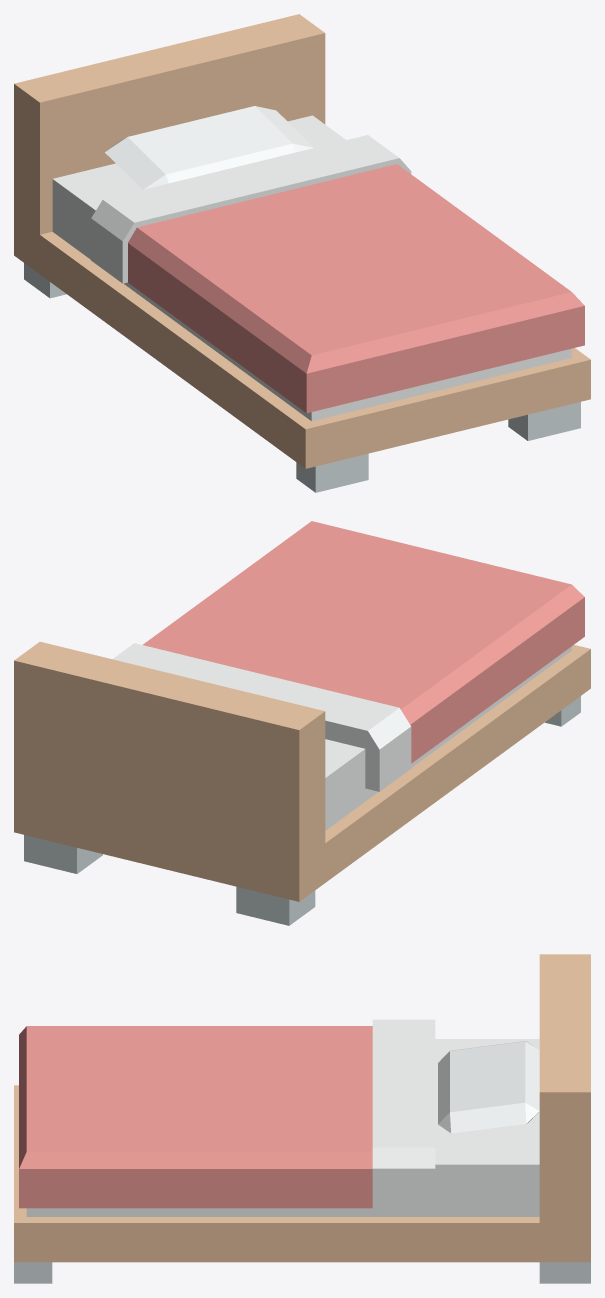
Rendered from bedSingle-alt-col.glb.
3 views of the same model, one above another, from view 1: azimuth 30°, elevation 25°; view 2: azimuth 150°, elevation 25°; view 3: azimuth 270°, elevation 25° (orthographic).
Parts seen in each view (by area): view 1: bedSingle-alt-col; view 2: bedSingle-alt-col; view 3: bedSingle-alt-col.
Boxes of the visible parts, x1,y1,x2,y2 form: bedSingle-alt-col: (14,14,590,492); bedSingle-alt-col: (14,521,590,925); bedSingle-alt-col: (14,954,590,1283).
Bounding box in the file's own units: 0.571 × 0.375 × 1.
